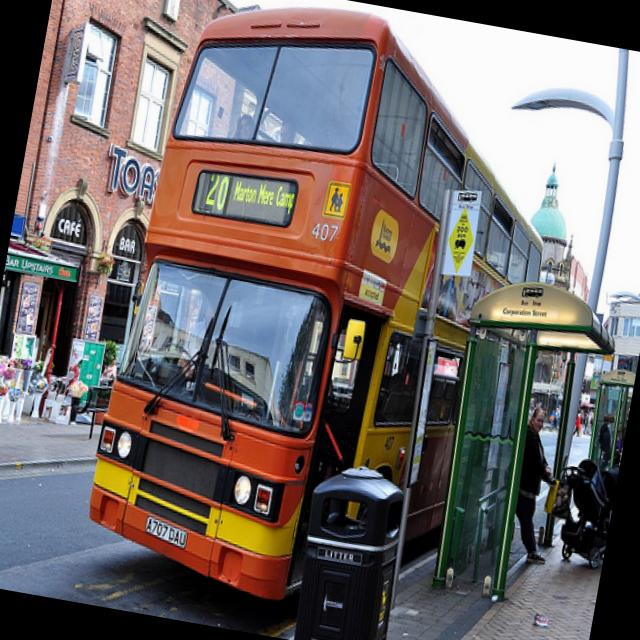Vehicle: (74, 0, 579, 640)
